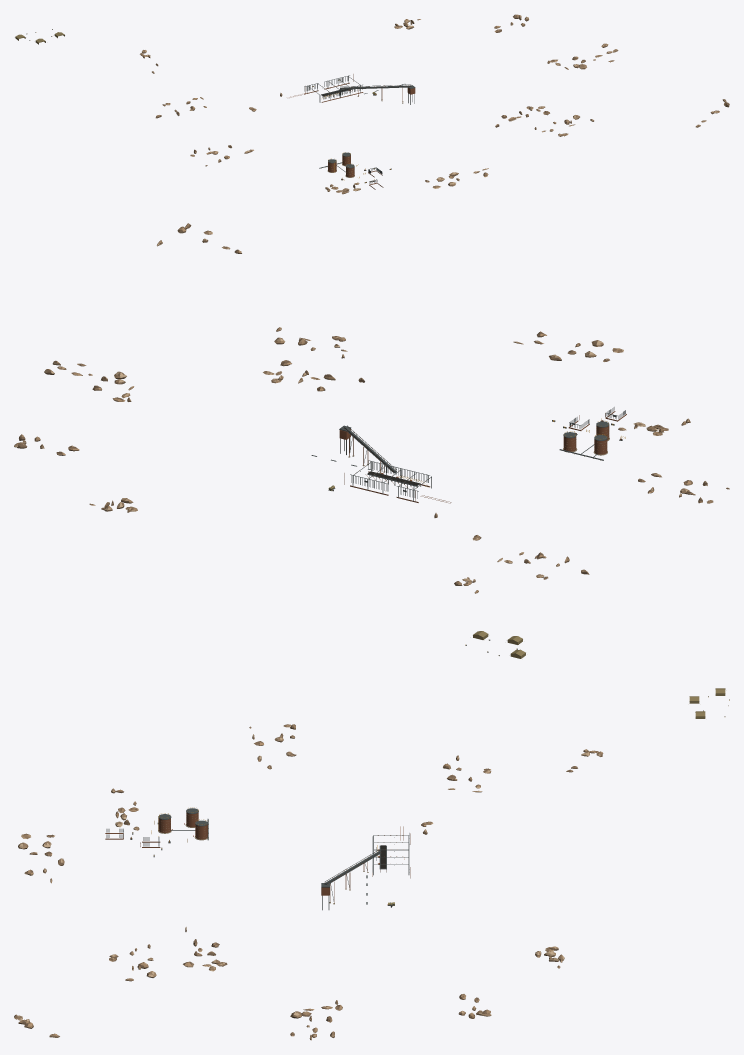
The model's file is industrial.glb.
3 views of the same model, one above another, from view 1: azimuth 30°, elevation 25°; view 2: azimuth 150°, elevation 25°; view 3: azimuth 270°, elevation 25° (orthographic). The views are drawn at different scales.
Size of the model in its own units: 519 by 35.59 by 468.
